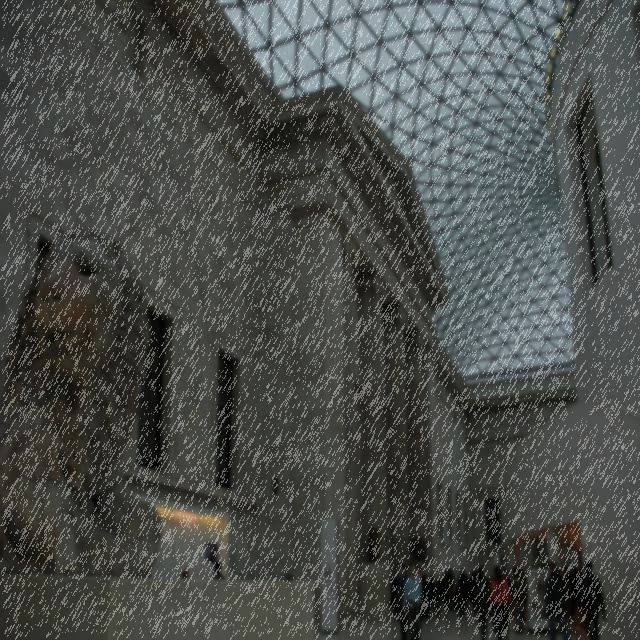pessoa: (578, 555, 610, 639), (544, 555, 572, 639), (400, 561, 426, 639), (486, 561, 512, 639), (471, 563, 492, 639), (392, 563, 412, 639), (510, 564, 527, 636), (559, 563, 581, 617), (513, 565, 530, 632), (500, 566, 514, 634), (453, 572, 469, 620), (487, 577, 499, 633), (468, 570, 480, 620), (386, 575, 400, 617), (419, 572, 431, 620), (433, 576, 444, 623), (444, 564, 456, 606), (427, 572, 437, 620), (440, 566, 450, 614), (458, 568, 469, 611), (212, 560, 226, 581), (179, 567, 191, 580)
